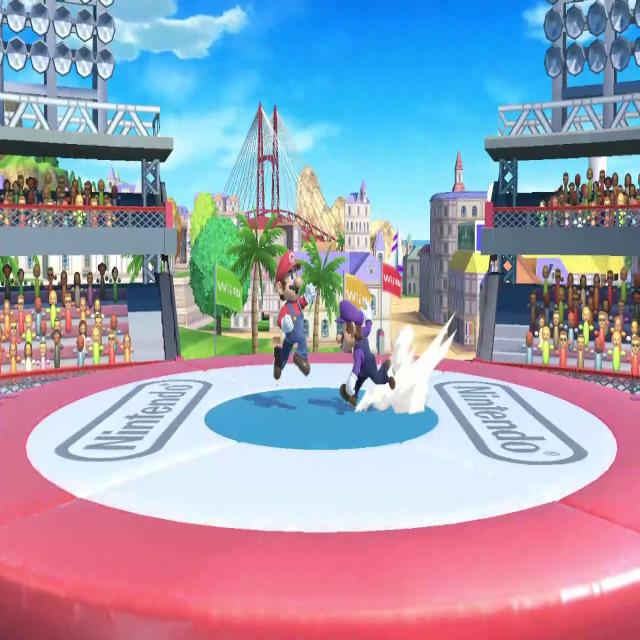Mario-Grab: (330, 294, 401, 410)
Mario-jump: (270, 245, 317, 385)
